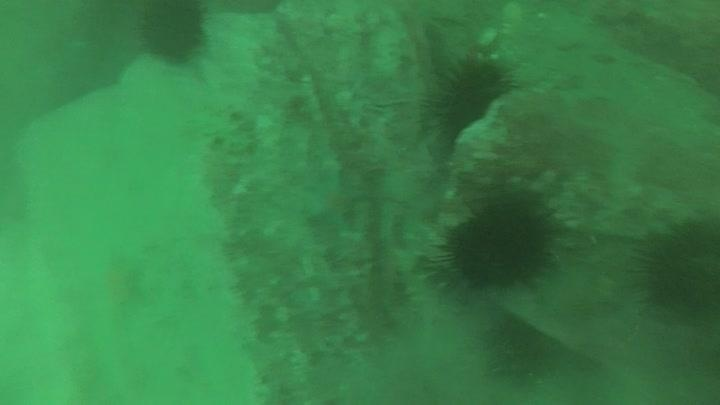echinus: (430, 189, 562, 296), (631, 213, 720, 323), (423, 53, 517, 145), (482, 314, 556, 383), (135, 1, 211, 66)
starfish: (302, 167, 368, 233)
